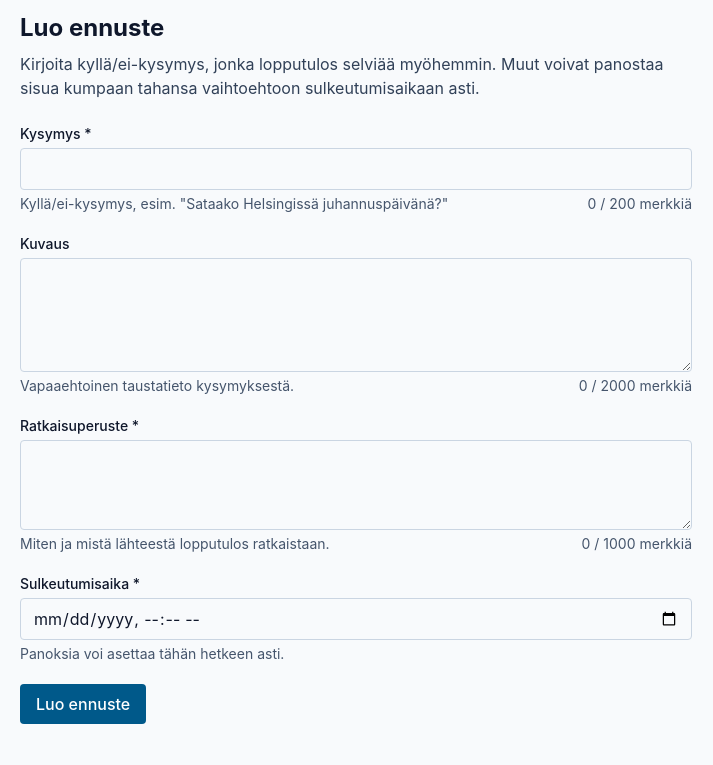
Test: CreatePrediction › shows a server-side field error next to its field
The width and height of the screenshot is (713, 765).
Type "Q?" into the field labelled "Kysymys *" at (356, 169), box [20,148,692,190]
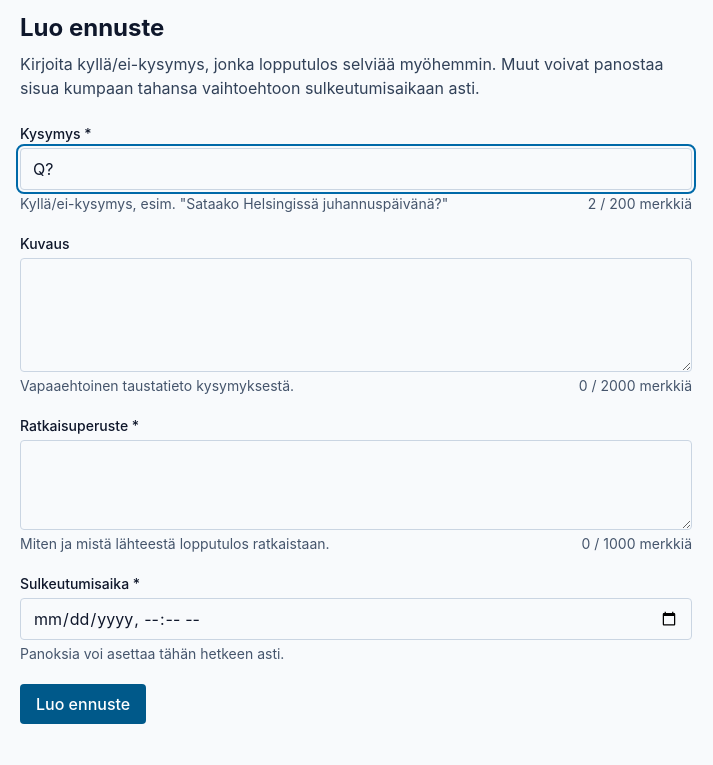
Type "Peruste" into the text box labelled "Ratkaisuperuste *" at (356, 485), box [20,440,692,530]
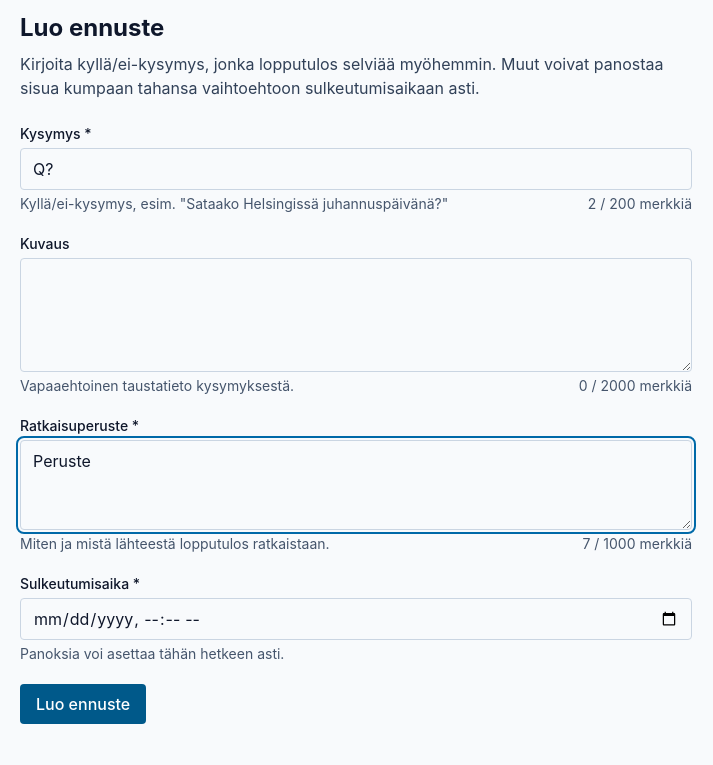
Type "2099-06-20T12:00" into the field labelled "Sulkeutumisaika *" at (356, 619), box [20,598,692,640]
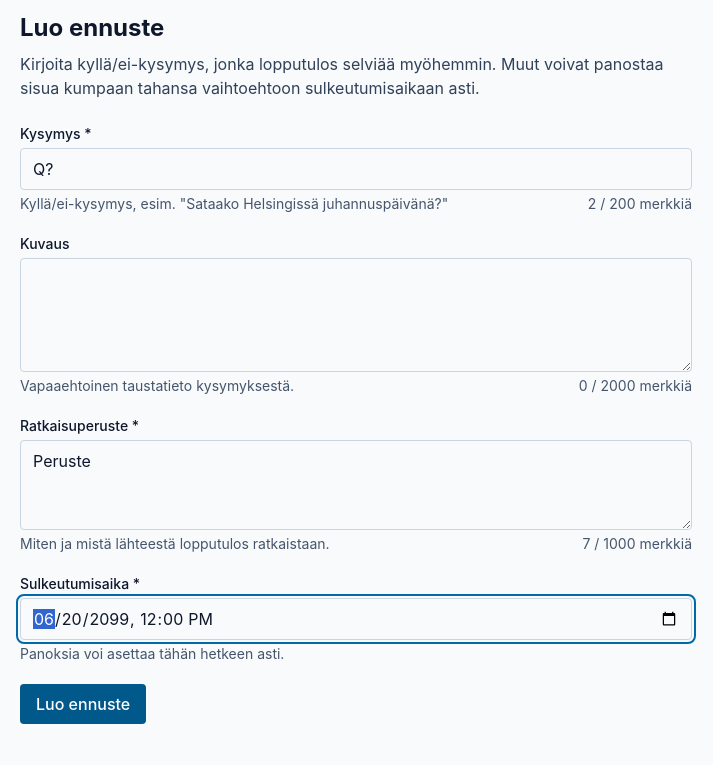
Click the button "Luo ennuste" at (83, 704), box [20,684,146,724]
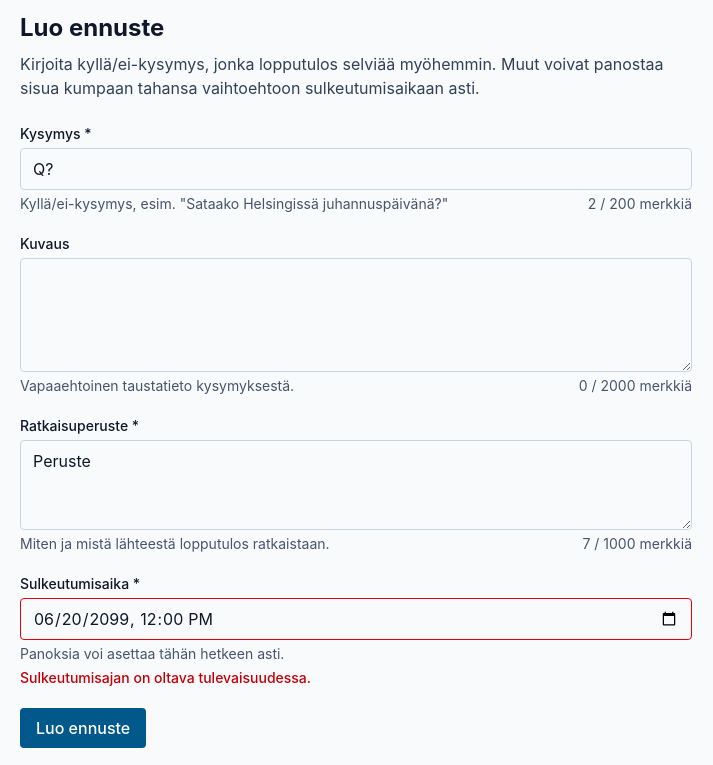
Expected: the text "Sulkeutumisajan on oltava tulevaisuudessa." is shown, [20,669,311,686]
